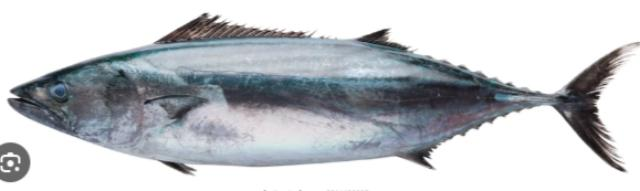Mulut: (4, 75, 51, 127)
Sirip Anal: (396, 136, 444, 174)
Sirip Dada: (146, 88, 212, 124)
Sirip Ekor: (558, 38, 640, 174)
Sirip Perut: (160, 153, 200, 179)
Sirip Punggung: (166, 6, 406, 58)
